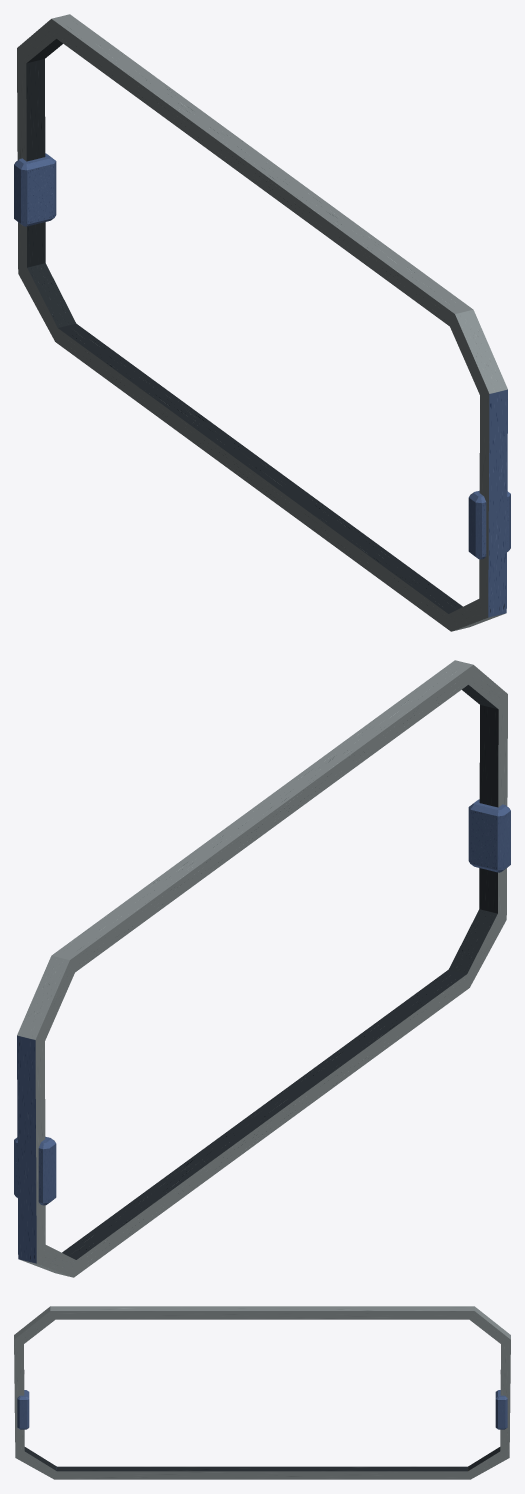
File: WingJoint.fbx
3 renders of one model, top to bottom at view 1: azimuth 30°, elevation 25°; view 2: azimuth 150°, elevation 25°; view 3: azimuth 270°, elevation 25°, orthographic. The views are drawn at different scales.
Visible parts, largest first — view 1: WingJoint; view 2: WingJoint; view 3: WingJoint.
Boxes of the visible parts, x1,y1,x2,y2 form: WingJoint: (14, 14, 510, 631); WingJoint: (14, 660, 510, 1277); WingJoint: (14, 1306, 510, 1479).
Size of the model in its own units: 80 by 692 by 1850.
